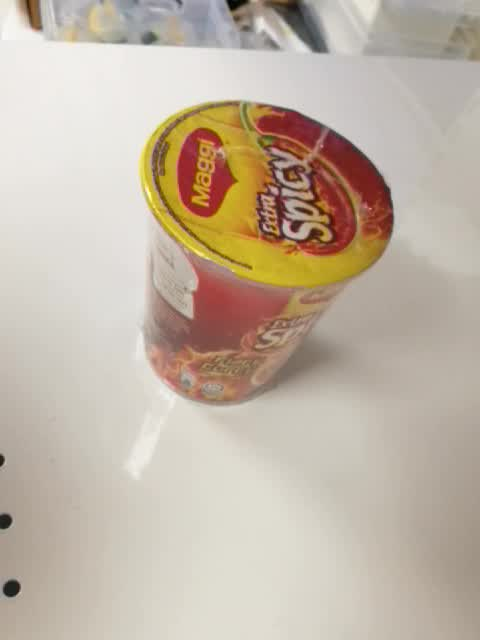maggi: (139, 98, 395, 407)
